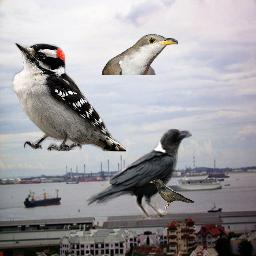Crow: (84, 125, 194, 221), (149, 179, 194, 209)
Cuckoo: (102, 34, 178, 75)
Woodpecker: (11, 43, 126, 152)
